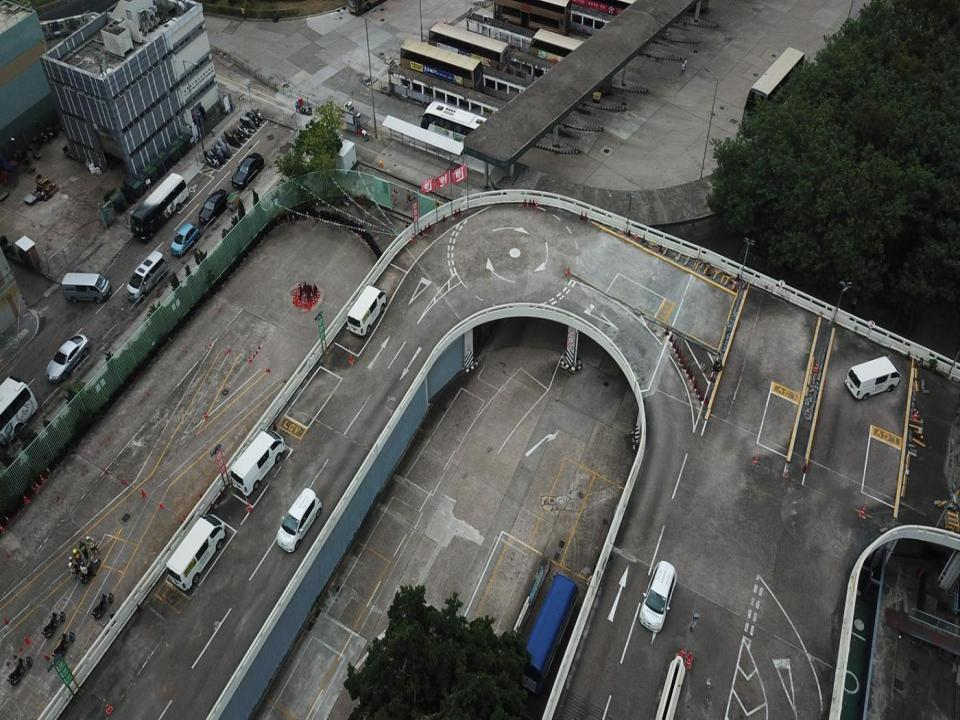bus: (397, 37, 479, 96), (418, 96, 501, 152), (126, 171, 190, 243), (429, 17, 502, 80), (745, 45, 799, 128), (527, 23, 596, 87), (2, 363, 36, 450), (491, 3, 572, 36)
car: (275, 487, 322, 555), (636, 559, 679, 633), (43, 332, 91, 383), (124, 247, 166, 303), (229, 152, 265, 189), (195, 186, 230, 224), (170, 222, 202, 257)
van: (165, 513, 228, 592), (229, 426, 287, 498), (844, 350, 903, 402), (344, 282, 388, 337), (60, 270, 114, 305)
